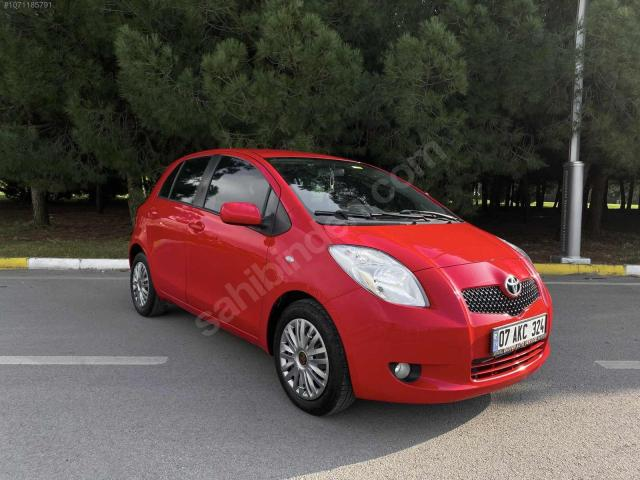plaka: (491, 314, 546, 356)
